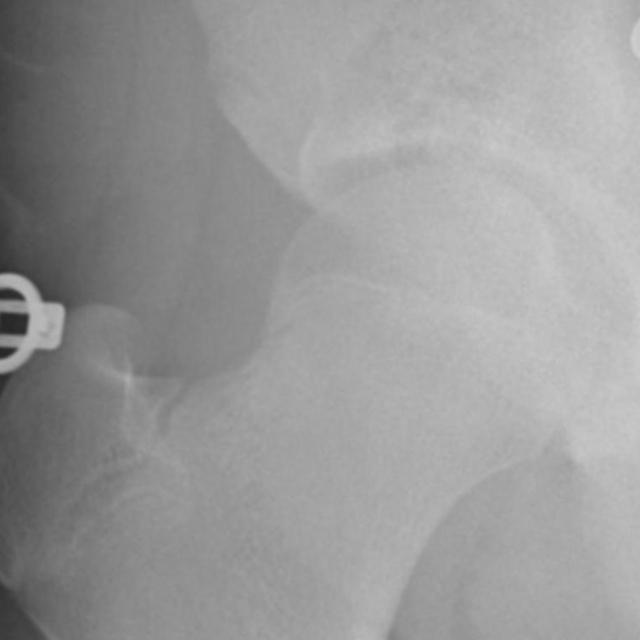Fitted_femural_head: (326, 165, 432, 326)
